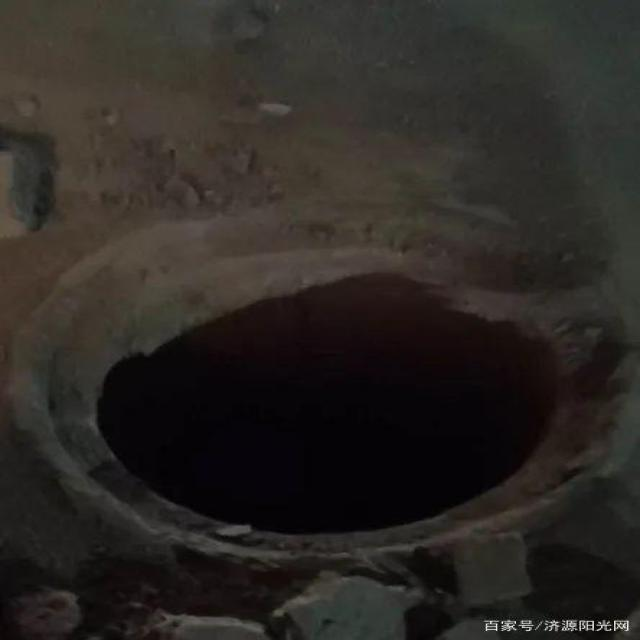manhole-cover: (31, 203, 626, 563)
